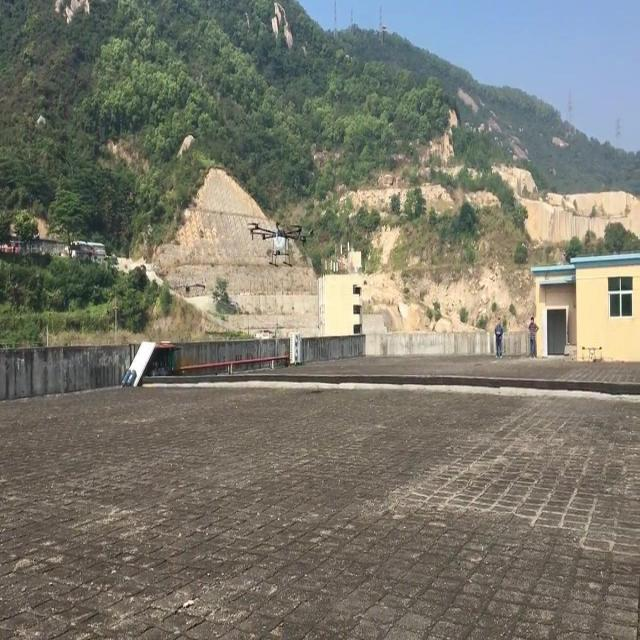UAV: (248, 222, 314, 268)
